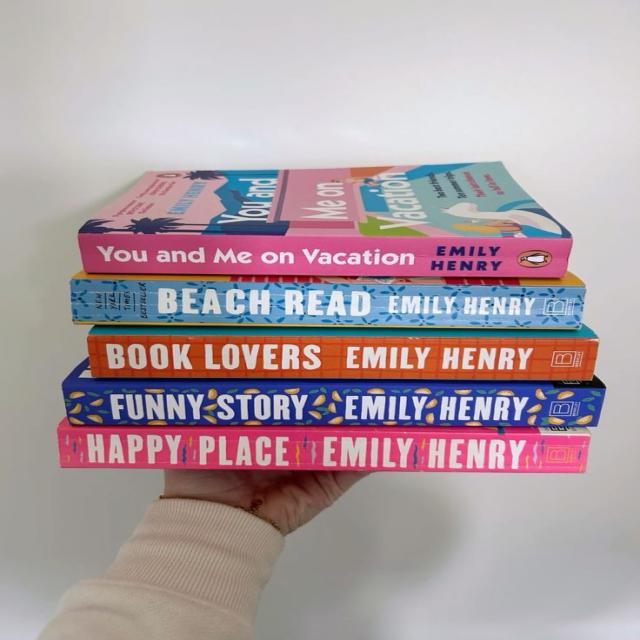book: (70, 281, 586, 331), (57, 426, 589, 474), (86, 336, 597, 381), (62, 385, 605, 427), (77, 233, 572, 278)
